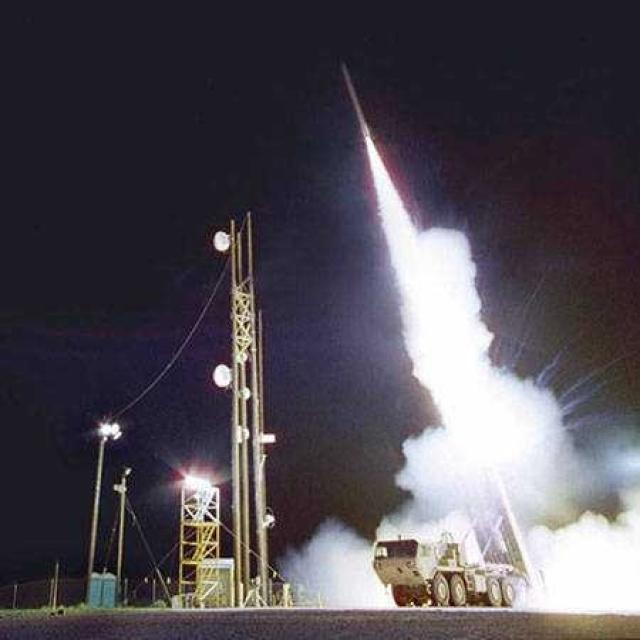missile: (335, 55, 370, 139)
